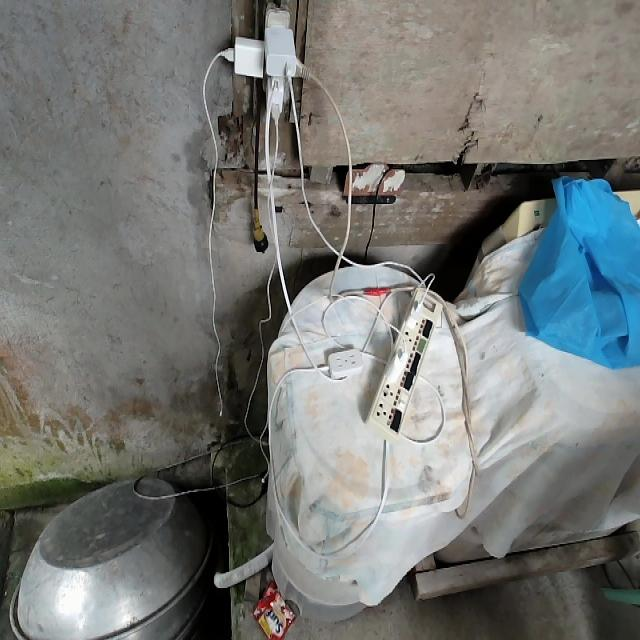-: (218, 5, 314, 124)
